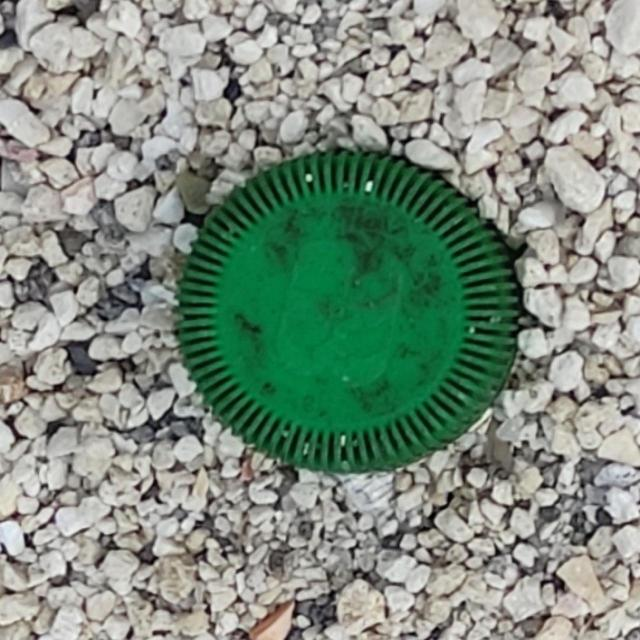plastic_waste: (174, 148, 525, 476)
